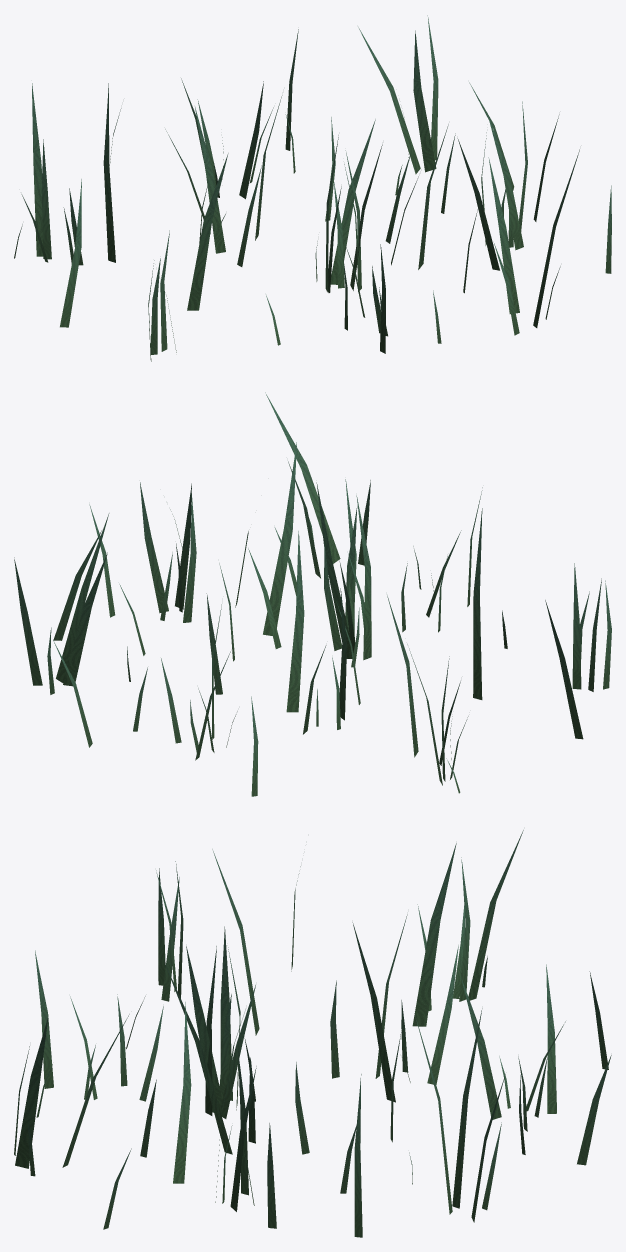
The model's file is Grass_Sparse.dae.
The picture shows the model from 3 angles, top to bottom: view 1: azimuth 30°, elevation 25°; view 2: azimuth 150°, elevation 25°; view 3: azimuth 270°, elevation 25°; orthographic projection. The views are drawn at different scales.
Visible parts, largest first — view 1: Grass_Sparse; view 2: Grass_Sparse; view 3: Grass_Sparse.
Part boxes in pixels (x1,y1,x2,y2): Grass_Sparse: [14, 15, 611, 361]; Grass_Sparse: [14, 392, 611, 796]; Grass_Sparse: [14, 830, 611, 1237].
Size of the model in its own units: 681 by 227 by 624.
